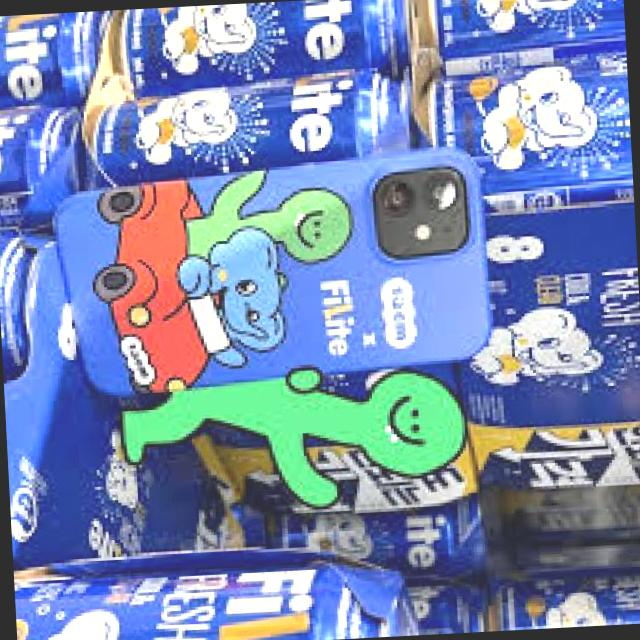lens_back: (375, 173, 417, 222), (420, 170, 460, 215)
phone: (49, 142, 496, 401)
